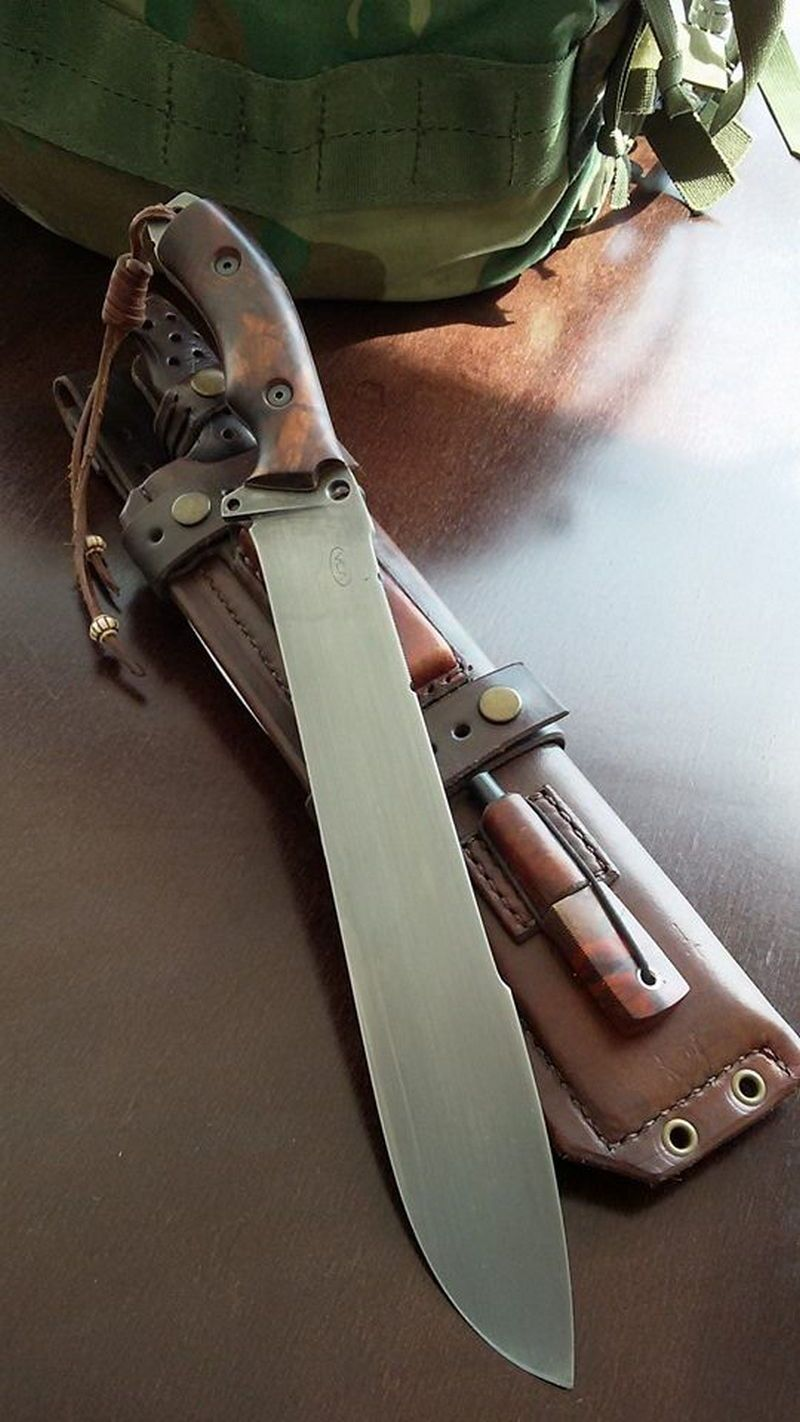knife: (114, 172, 586, 1400)
